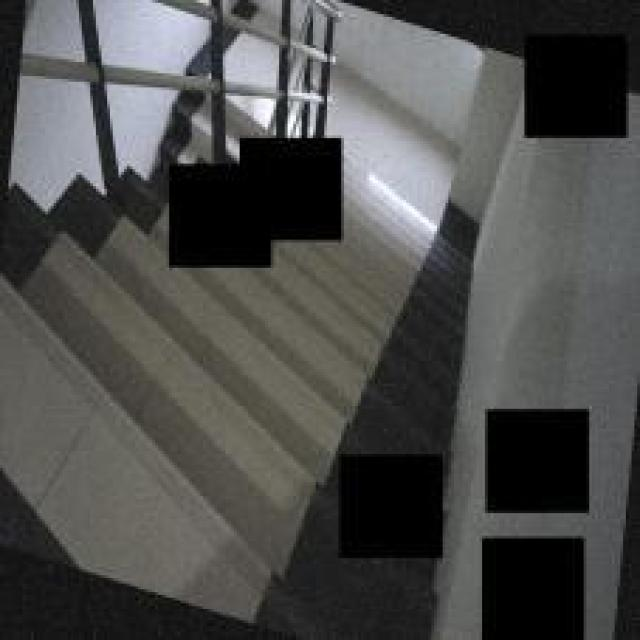downstair: (24, 300, 306, 593)
